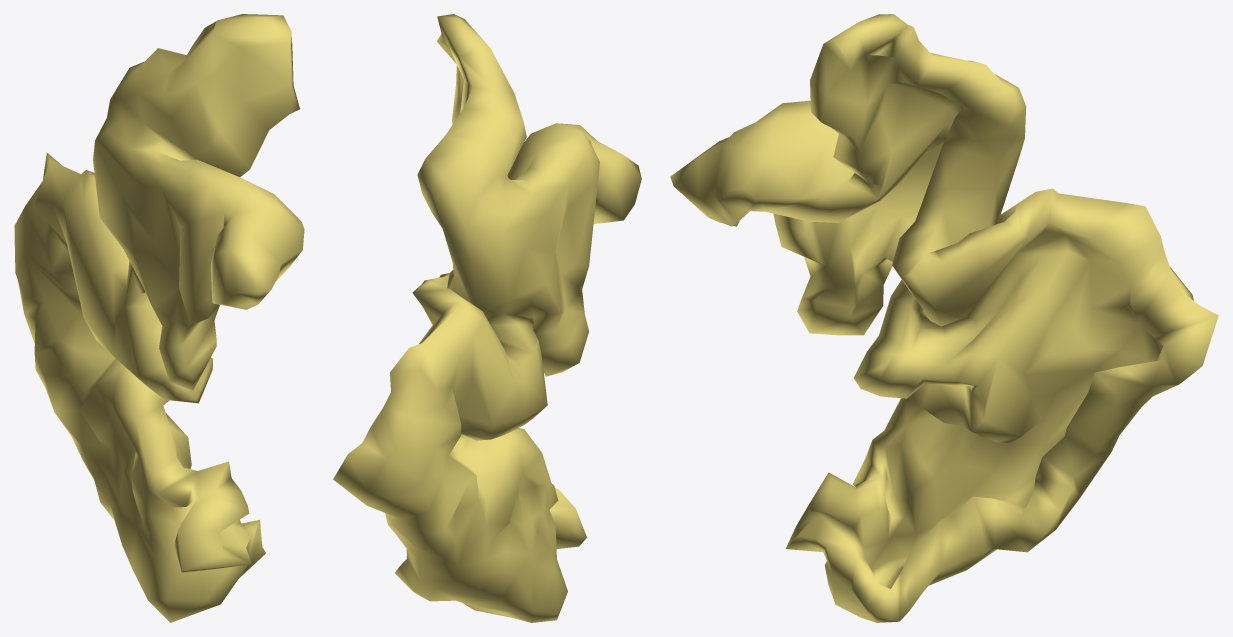
Rendered from precuneus-l.glb.
3 renders of one model, left to right at view 1: azimuth 30°, elevation 25°; view 2: azimuth 150°, elevation 25°; view 3: azimuth 270°, elevation 25°, orthographic. The views are drawn at different scales.
Visible parts, largest first — view 1: Precuneus.l; view 2: Precuneus.l; view 3: Precuneus.l.
Boxes of the visible parts, x1,y1,x2,y2 form: Precuneus.l: (14,14,304,622); Precuneus.l: (333,14,641,622); Precuneus.l: (670,14,1218,622).
Bounding box in the file's own units: 0.0164 × 0.0678 × 0.0539.
